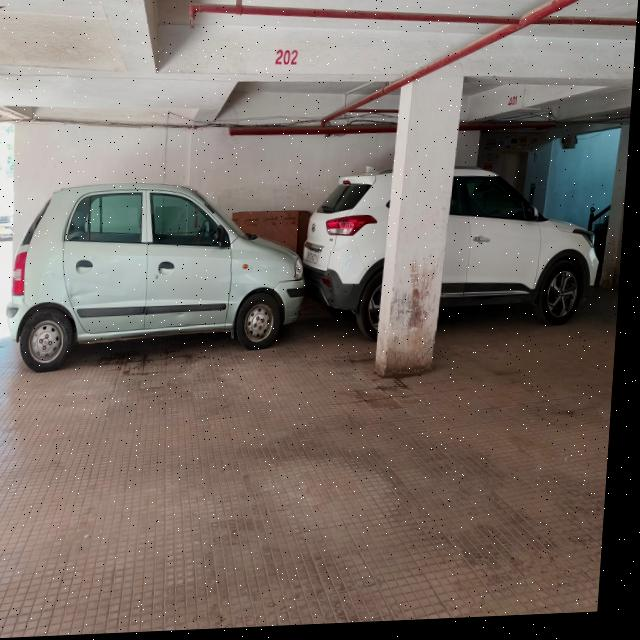car: (10, 169, 319, 383), (298, 156, 616, 351)
